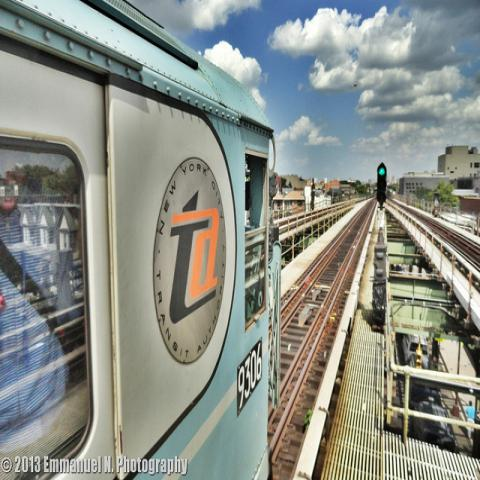car: (402, 335, 430, 362)
